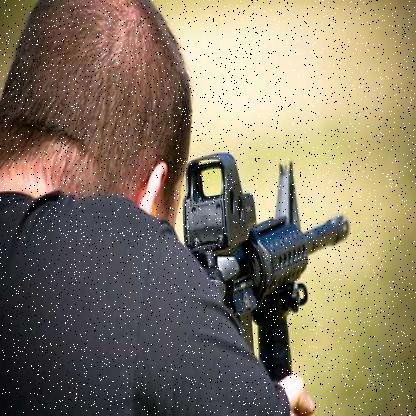rifle: (176, 132, 356, 385)
